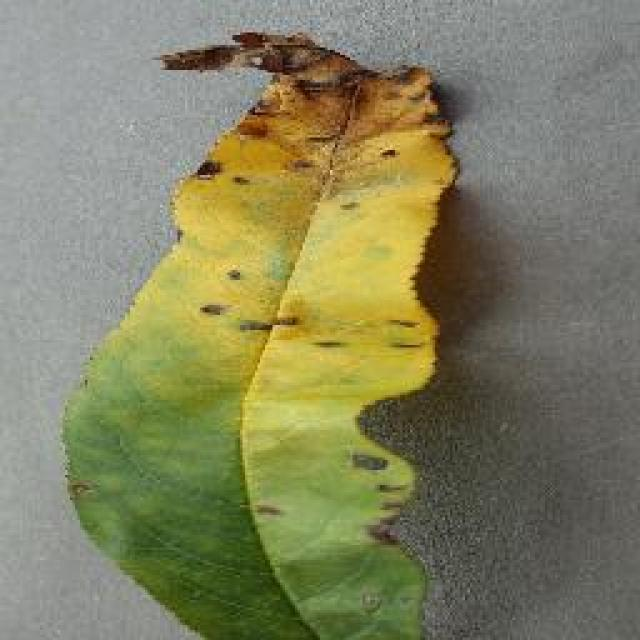Peach_Bacterial_Spot: (152, 0, 460, 345)
